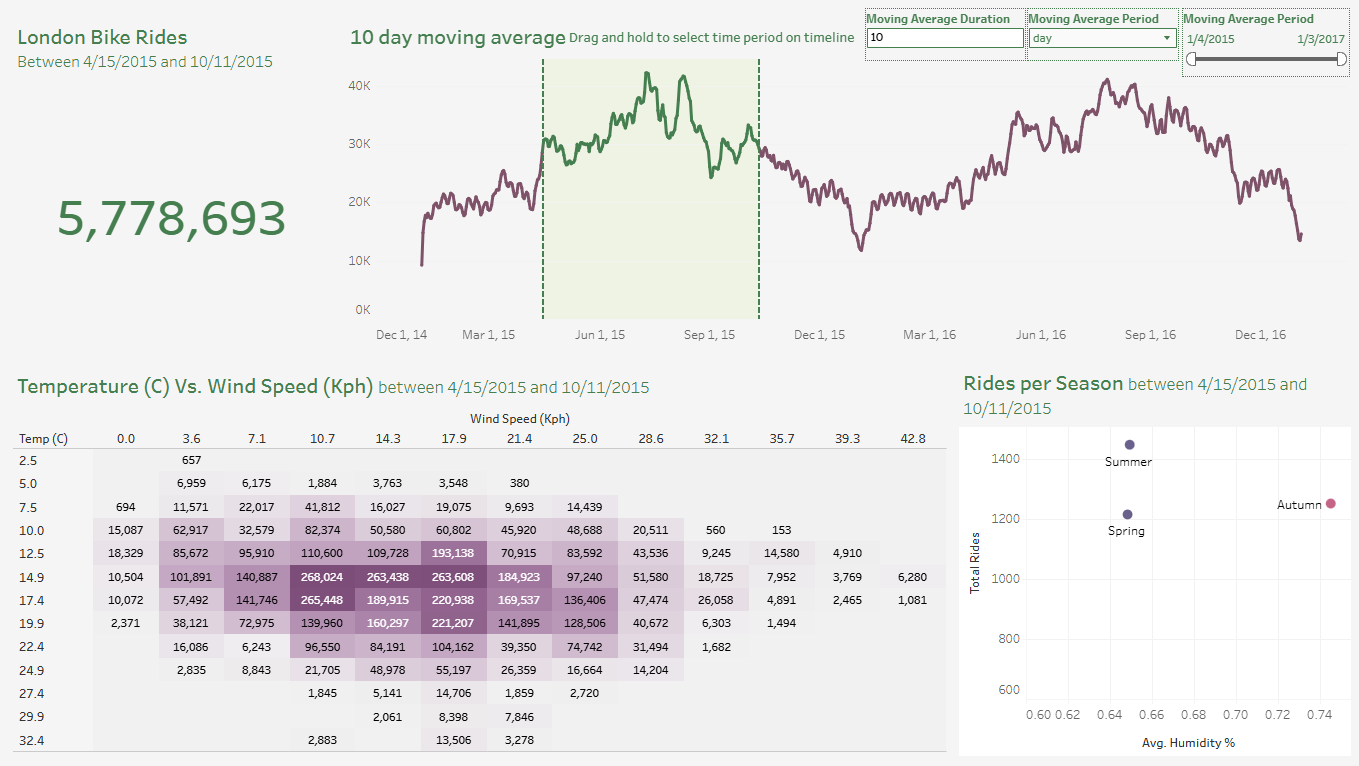

Layout of this report page (visuals, bound fields, positions):
{"tool":"tableau","page":{"name":"London Bike Analysis","canvas":[1366,768],"ordinal":0},"visuals":[{"type":"worksheet","title":"RideTotal","mark":"Automatic","box":[8,8,333,349]},{"type":"worksheet","title":"MovingAverage","mark":"Automatic","rows":["Calculation1"],"cols":["Calculation_1336724726244487168"],"box":[341,8,1017,349]},{"type":"parameter","param":"[Parameters].[Parameter 2]","box":[868,8,161,53]},{"type":"parameter","param":"[Parameters].[Parameter 1]","box":[1030,8,152,53]},{"type":"filter","title":"MovingAverage","param":"[federated.0pq3nhc16bpwsd104qyso1vbvvsp].[none:Calculation_1336724726244487168:q","box":[1185,8,168,69]},{"type":"text","box":[572,22,291,30]},{"type":"worksheet","title":"Heatmap","mark":"Square","rows":["Real Temp C (bin)"],"cols":["Wind Speed Kph (bin)"],"box":[8,357,950,403]},{"type":"worksheet","title":"Season Cluster","mark":"Automatic","rows":["Calculation_1136877493148688392"],"cols":["Calculation_1136877493148577799"],"box":[958,357,400,403]}]}

Visuals, with their boxes in screenshot pixels (x1, y1, x2, y2), scaled from the page's 1366x768 canvas onto the 1359x766 screenshot:
"RideTotal" worksheet: (left=8, top=8, right=339, bottom=356)
"MovingAverage" worksheet: (left=339, top=8, right=1351, bottom=356)
parameter: (left=864, top=8, right=1024, bottom=61)
parameter: (left=1025, top=8, right=1176, bottom=61)
"MovingAverage" filter: (left=1179, top=8, right=1346, bottom=77)
text: (left=569, top=22, right=859, bottom=52)
"Heatmap" worksheet (Square marks): (left=8, top=356, right=953, bottom=758)
"Season Cluster" worksheet: (left=953, top=356, right=1351, bottom=758)
